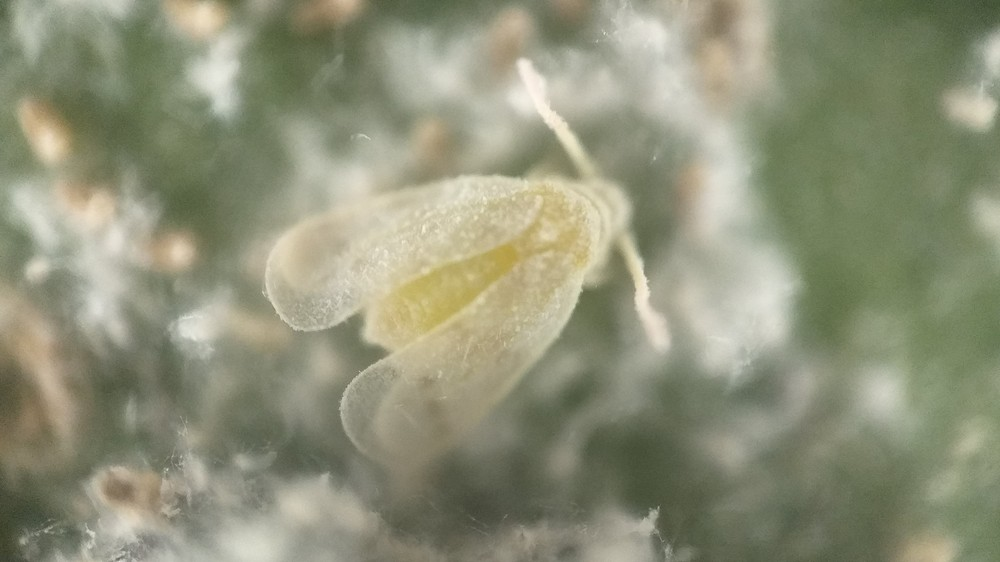Mosca Blanca: (258, 54, 699, 497)
